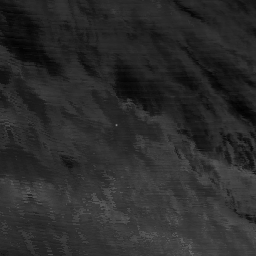Target: (112, 121, 120, 129)
